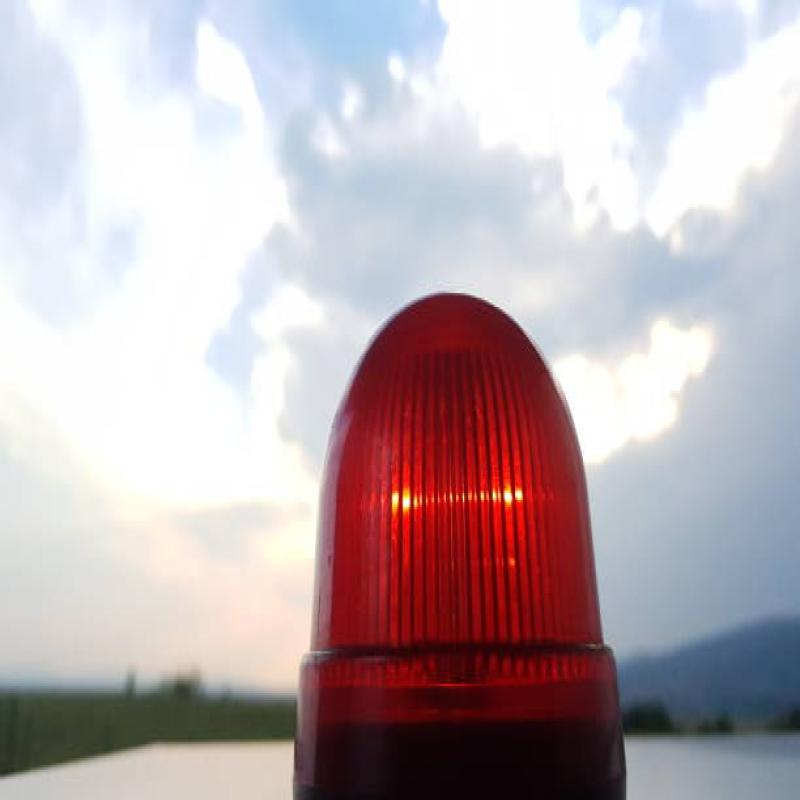AmbulanceSiren: (296, 243, 624, 800)
